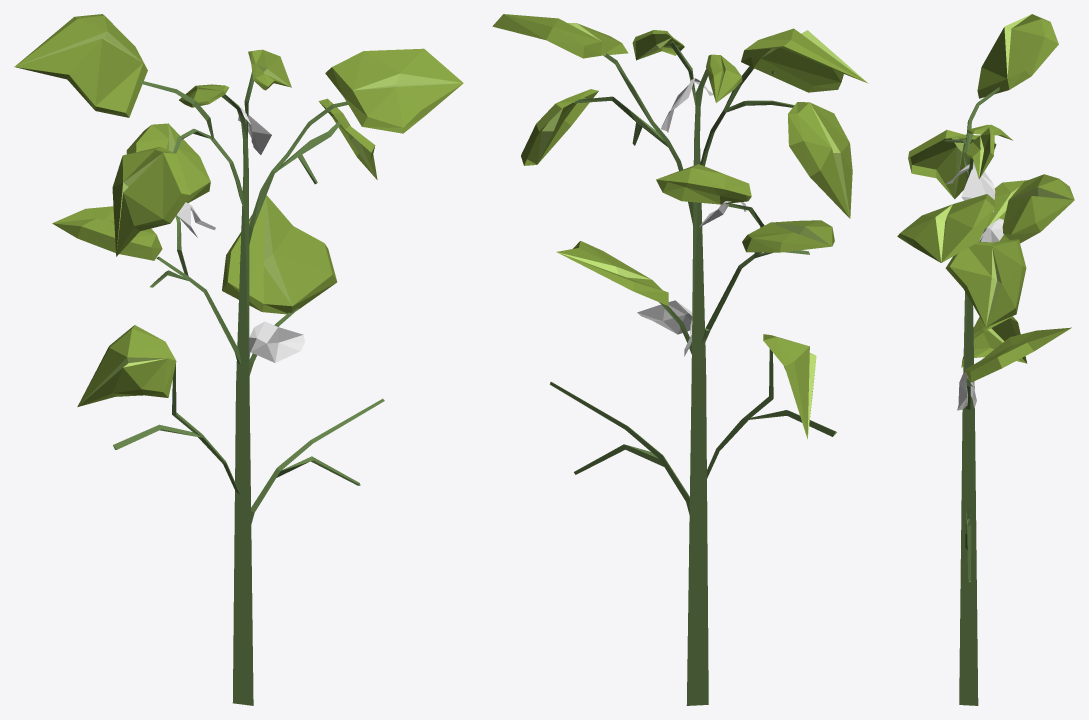
File: Beans_5.fbx
3 views of the same model, side by side, from view 1: azimuth 30°, elevation 25°; view 2: azimuth 150°, elevation 25°; view 3: azimuth 270°, elevation 25° (orthographic). The views are drawn at different scales.
Parts seen in each view (by area): view 1: Beans_6; view 2: Beans_6; view 3: Beans_6.
Boxes of the visible parts, x1,y1,x2,y2 form: Beans_6: [14, 14, 463, 705]; Beans_6: [492, 14, 868, 705]; Beans_6: [897, 14, 1074, 705].
Bounding box in the file's own units: 204 × 335 × 86.
